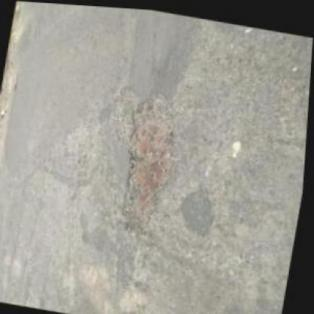Hueco: (114, 83, 189, 235)
